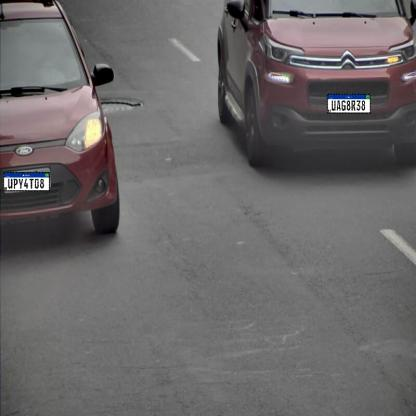PlacaM: (3, 172, 50, 191), (327, 94, 371, 114)
